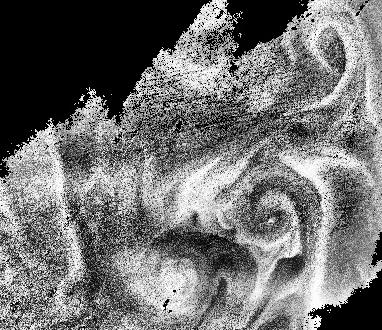CE: (131, 222, 220, 315), (230, 169, 312, 252), (301, 19, 362, 79)
